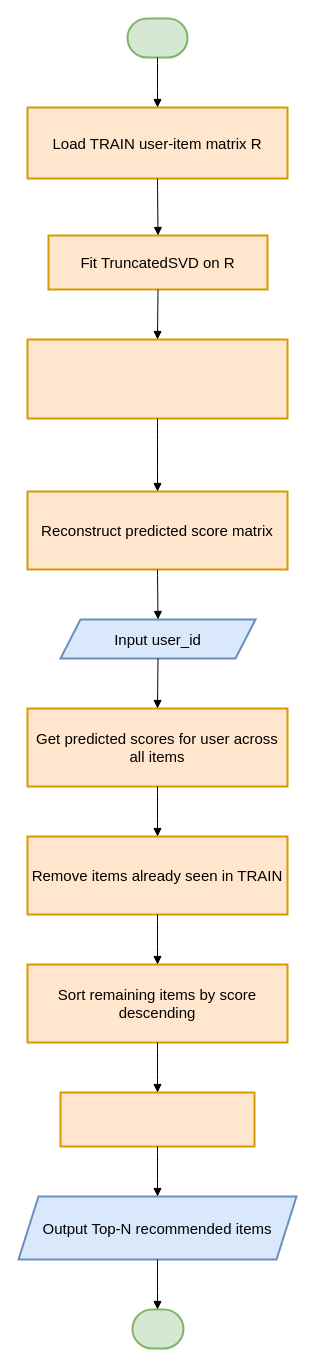
The diagram is 314 pixels wide and 1366 high, and some of its shapes have lost their labels. The shapes that lost their labels are listed below. From the top down, each one's centre as x and y in pixels, then its label:
(157,37): Start
(157,378): Compute latent user factors and item components
(157,1119): Select Top-N items
(157,1328): End
